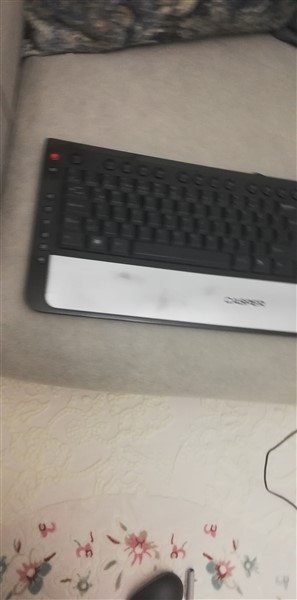klavye: (27, 135, 297, 341)
